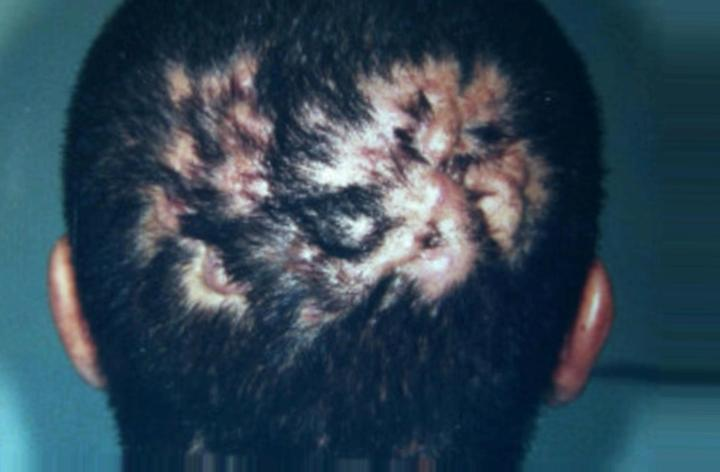Folliculitis: (133, 55, 559, 340)
